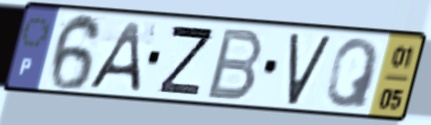6: (46, 10, 106, 94)
A: (84, 20, 143, 94)
B: (202, 26, 267, 103)
Q: (323, 36, 383, 111)
V: (285, 32, 335, 108)
Z: (156, 22, 217, 99)
